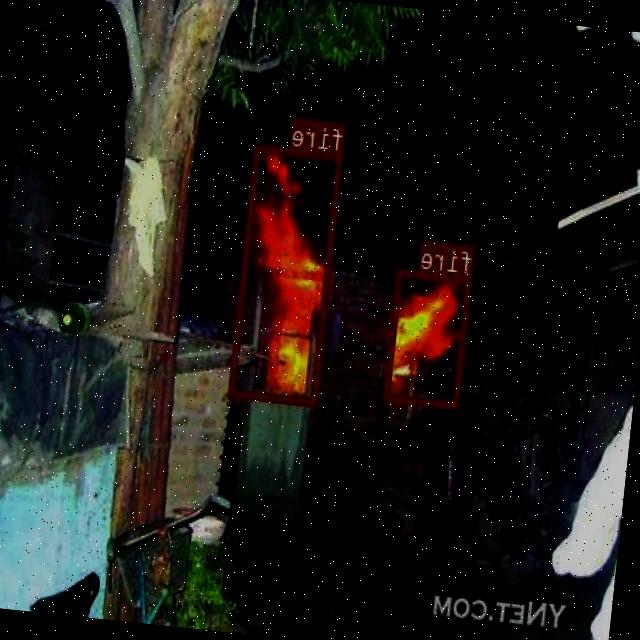fire: (230, 144, 345, 406), (384, 266, 474, 408)
